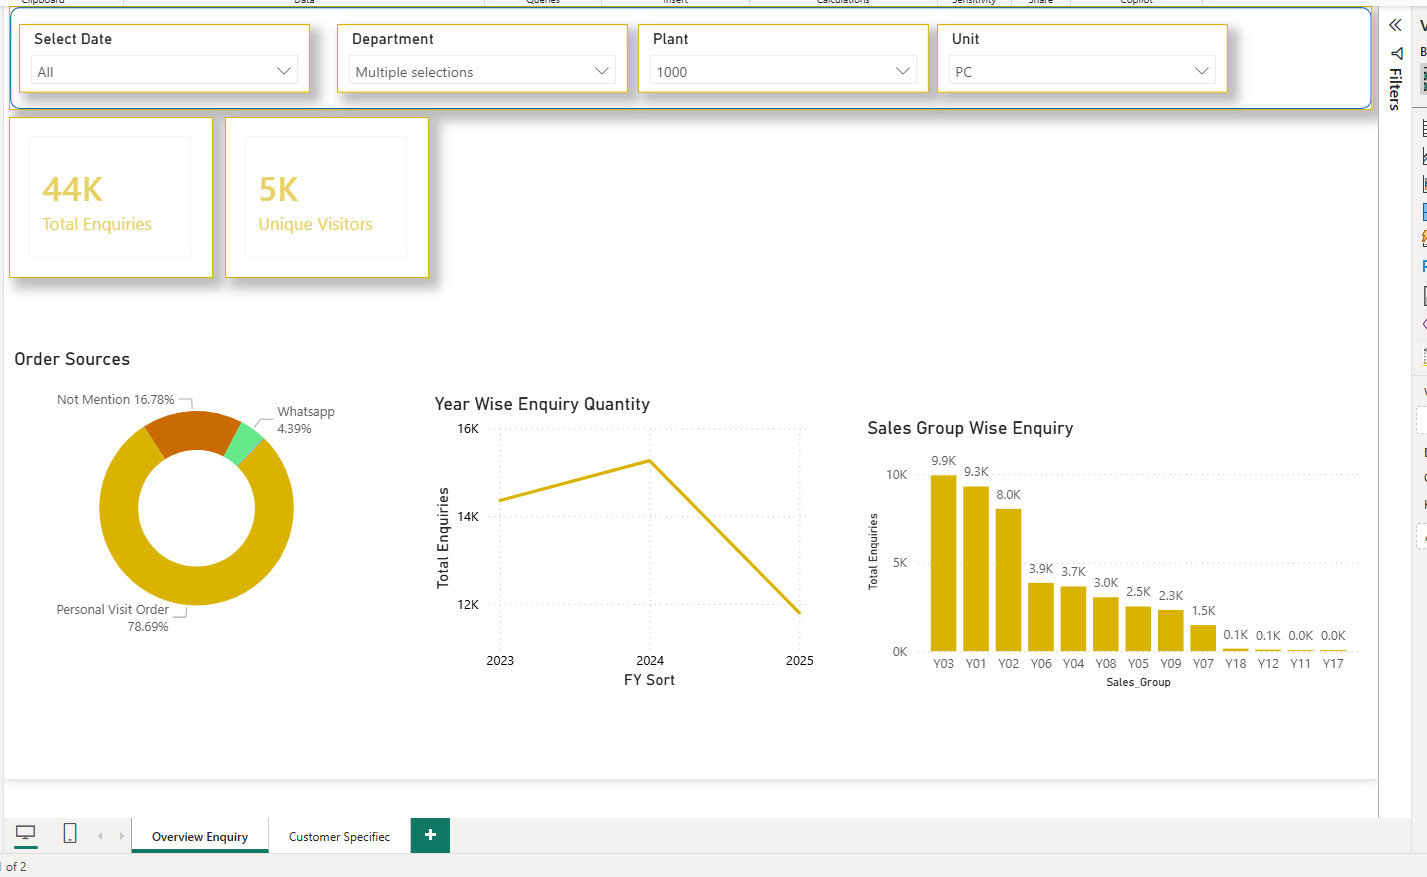

The dashboard page shown, as its layout file describes it:
{"tool":"powerbi","page":{"name":"Overview Enquiry","canvas":[1280,720],"ordinal":0},"visuals":[{"type":"shape","box":[4.8,0,1270.4,97],"z":0},{"type":"slicer","fields":{"Values":["yngs_sales sales_group_master.Sales_Group"]},"box":[310.2,16.3,270.8,64.3],"z":1000},{"type":"slicer","fields":{"Values":["yngs_sales plant_master.Plant_Code"]},"box":[590.5,16.3,270.8,64.3],"z":2000},{"type":"slicer","fields":{"Values":["Unit Of Measurment.UOM"]},"box":[869,16.3,270.8,64.3],"z":3000},{"type":"slicer","fields":{"Values":["DateTable.Date"]},"box":[14.4,16.3,270.8,64.3],"z":4000},{"type":"cardVisual","fields":{"Data":["inquiry inquirydetails.Total Enquiries"]},"box":[5,103.8,189.7,149.8],"z":5000},{"type":"cardVisual","fields":{"Data":["inquiry inquirydetails.Unique Visitors"]},"box":[205.7,103.8,189.7,149.8],"z":6000},{"type":"donutChart","title":"Order Sources","fields":{"Category":["inquiry inquirydetails.Order_Reason_Desc"],"Y":["inquiry inquirydetails.Total Enquiries"]},"box":[5,318.5,349.5,279.6],"z":7000},{"type":"lineChart","title":"Year Wise Enquiry Quantity ","fields":{"Y":["inquiry inquirydetails.Total Enquiries"],"Category":["DateTable.FY Sort"]},"box":[395.6,360.1,363,280.4],"z":8000},{"type":"clusteredColumnChart","title":"Sales Group Wise Enquiry","fields":{"Category":["inquiry inquirydetails.Sales_Group"],"Y":["inquiry inquirydetails.Total Enquiries"]},"box":[798.9,383.1,468.2,257.1],"z":9000}]}

Visuals, with their boxes in screenshot pixels (x1, y1, x2, y2):
shape: {"left": 5, "top": 0, "right": 1402, "bottom": 107}
slicer - yngs_sales sales_group_master.Sales_Group: {"left": 341, "top": 18, "right": 639, "bottom": 89}
slicer - yngs_sales plant_master.Plant_Code: {"left": 649, "top": 18, "right": 947, "bottom": 89}
slicer - Unit Of Measurment.UOM: {"left": 955, "top": 18, "right": 1253, "bottom": 89}
slicer - DateTable.Date: {"left": 16, "top": 18, "right": 314, "bottom": 89}
cardVisual - inquiry inquirydetails.Total Enquiries: {"left": 5, "top": 114, "right": 214, "bottom": 279}
cardVisual - inquiry inquirydetails.Unique Visitors: {"left": 226, "top": 114, "right": 435, "bottom": 279}
"Order Sources" donutChart: {"left": 5, "top": 350, "right": 390, "bottom": 658}
"Year Wise Enquiry Quantity " lineChart: {"left": 435, "top": 396, "right": 834, "bottom": 704}
"Sales Group Wise Enquiry" clusteredColumnChart: {"left": 878, "top": 421, "right": 1393, "bottom": 704}
